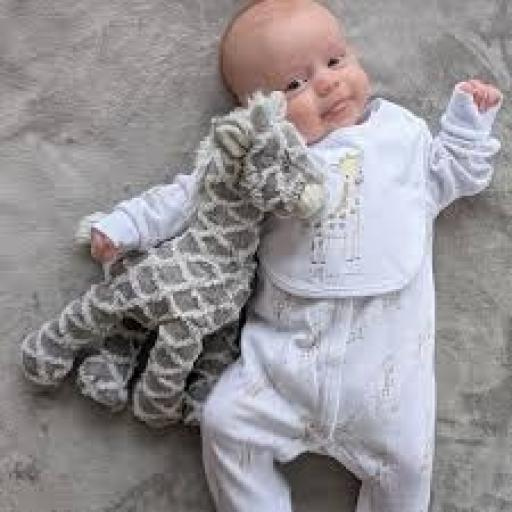baby: (203, 0, 502, 511)
